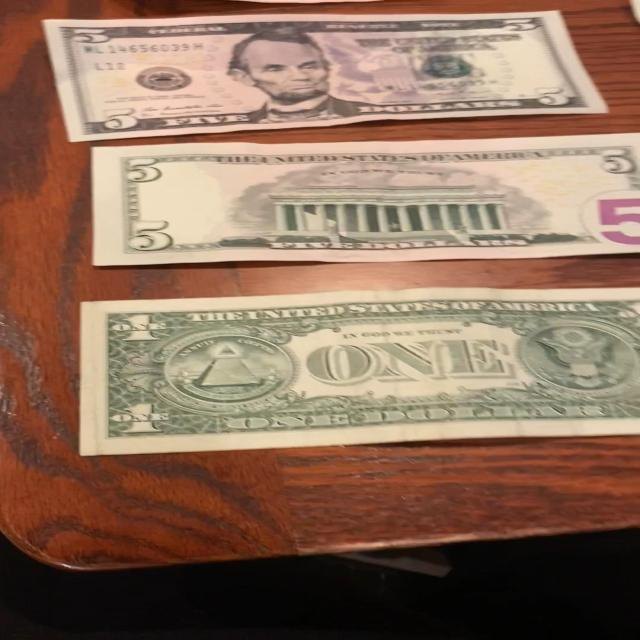1-Back: (76, 282, 640, 458)
5-Back: (86, 137, 640, 268)
5-Front: (39, 0, 615, 143)
